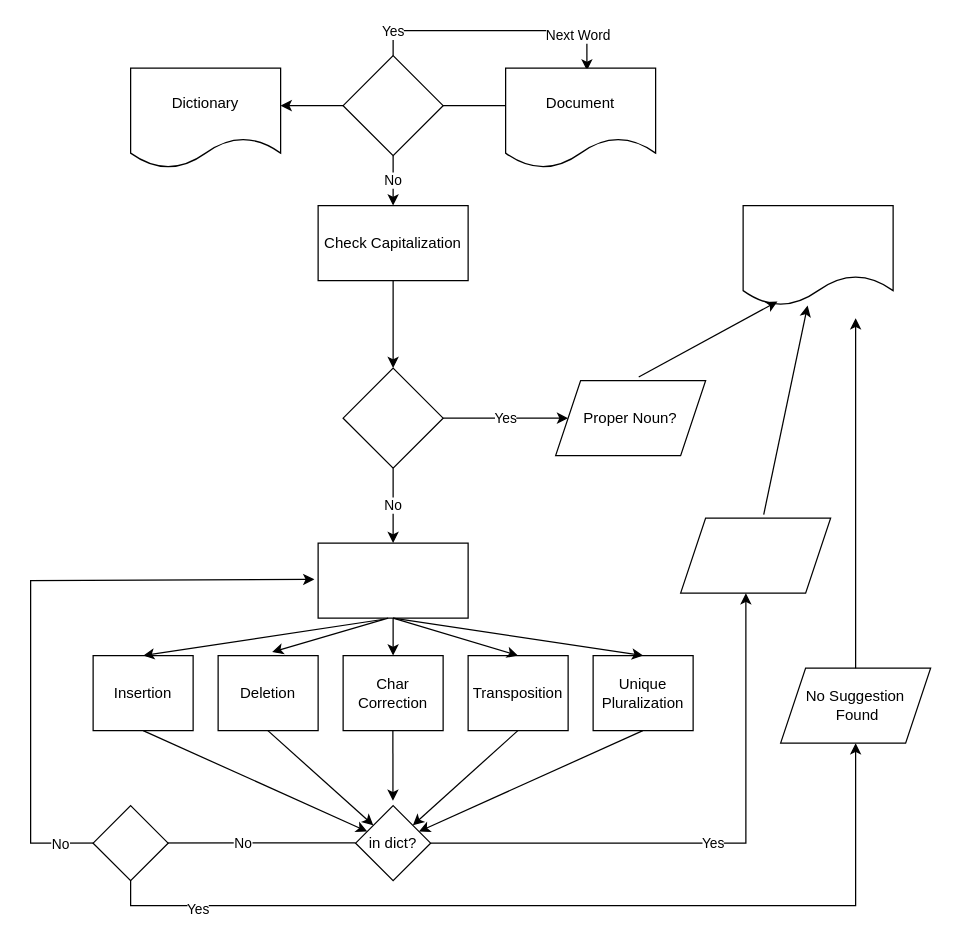
The diagram is 953 pixels wide and 939 high, and some of its shapes have lost their labels. Each missing label, with the box of its shape:
Capitalized: (342, 367, 443, 468)
In Dictionary?: (342, 54, 443, 156)
Max Depth?: (92, 804, 168, 881)
Output File: (742, 204, 893, 306)
Recursive Correction: (317, 542, 468, 618)
Suggestions List: (679, 517, 831, 593)
